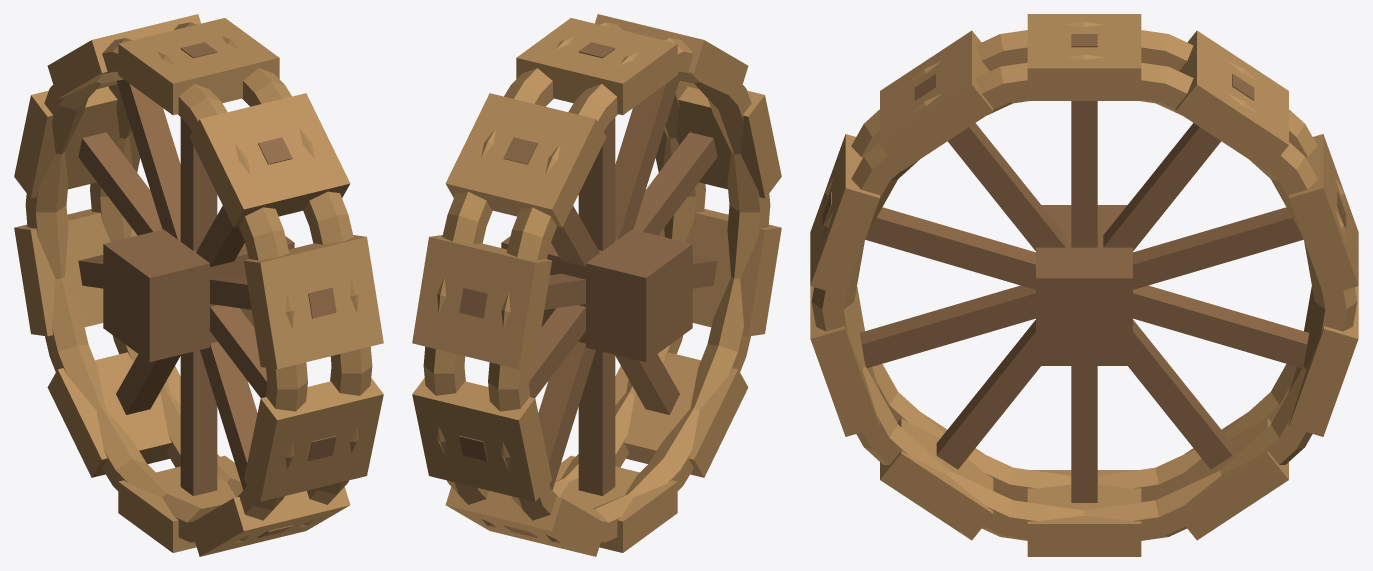
The model's file is workshop-waterwheel.glb.
3 renders of one model, left to right at view 1: azimuth 30°, elevation 25°; view 2: azimuth 150°, elevation 25°; view 3: azimuth 270°, elevation 25°, orthographic. The views are drawn at different scales.
Parts seen in each view (by area): view 1: waterwheel rim, waterwheel bucket.002, waterwheel bucket.001, waterwheel axle, waterwheel bucket.003, waterwheel rim.001, waterwheel bucket, waterwheel bucket.006, waterwheel bucket.007, waterwheel bucket.008, waterwheel bucket.004, waterwheel spoke.005 (+11 smaller); view 2: waterwheel rim, waterwheel bucket.008, waterwheel bucket.009, waterwheel axle, waterwheel bucket.007, waterwheel rim.001, waterwheel bucket, waterwheel bucket.004, waterwheel bucket.003, waterwheel bucket.002, waterwheel bucket.006, waterwheel spoke.005 (+11 smaller); view 3: waterwheel rim.001, waterwheel rim, waterwheel axle, waterwheel bucket, waterwheel bucket.001, waterwheel bucket.009, waterwheel bucket.005, waterwheel spoke.003, waterwheel spoke.007, waterwheel spoke.002, waterwheel spoke.008, waterwheel bucket.002 (+11 smaller).
Boxes of the visible parts, box(x1,y1,x2,y2) form: waterwheel rim: box(25, 38, 307, 544); waterwheel bucket.002: box(244, 235, 383, 369); waterwheel bucket.001: box(189, 93, 350, 227); waterwheel axle: box(103, 229, 294, 361); waterwheel bucket.003: box(244, 378, 383, 501); waterwheel rim.001: box(90, 22, 372, 527); waterwheel bucket: box(118, 18, 279, 115); waterwheel bucket.006: box(47, 352, 180, 477); waterwheel bucket.007: box(14, 209, 137, 336); waterwheel bucket.008: box(14, 86, 140, 198); waterwheel bucket.004: box(189, 487, 350, 556); waterwheel spoke.005: box(180, 350, 217, 495); waterwheel rim: box(488, 38, 770, 544); waterwheel bucket.008: box(412, 235, 551, 369); waterwheel bucket.009: box(445, 93, 606, 227); waterwheel axle: box(501, 229, 692, 361); waterwheel bucket.007: box(412, 378, 551, 501); waterwheel rim.001: box(423, 22, 705, 527); waterwheel bucket: box(516, 18, 677, 115); waterwheel bucket.004: box(615, 352, 748, 477); waterwheel bucket.003: box(658, 209, 781, 336); waterwheel bucket.002: box(655, 86, 781, 198); waterwheel bucket.006: box(445, 487, 606, 556); waterwheel spoke.005: box(578, 350, 615, 495); waterwheel rim.001: box(811, 54, 1357, 540); waterwheel rim: box(822, 22, 1346, 502); waterwheel axle: box(1036, 205, 1132, 365); waterwheel bucket: box(1027, 14, 1141, 100); waterwheel bucket.001: box(880, 30, 993, 171); waterwheel bucket.009: box(1175, 30, 1288, 171); waterwheel bucket.005: box(1027, 470, 1141, 556); waterwheel spoke.003: box(859, 285, 1035, 368); waterwheel spoke.007: box(1133, 285, 1309, 368); waterwheel spoke.002: box(822, 192, 1035, 289); waterwheel spoke.008: box(1133, 192, 1346, 289); waterwheel bucket.002: box(810, 134, 879, 295).
Size of the model in its own units: 0.72 by 2.26 by 2.27.
